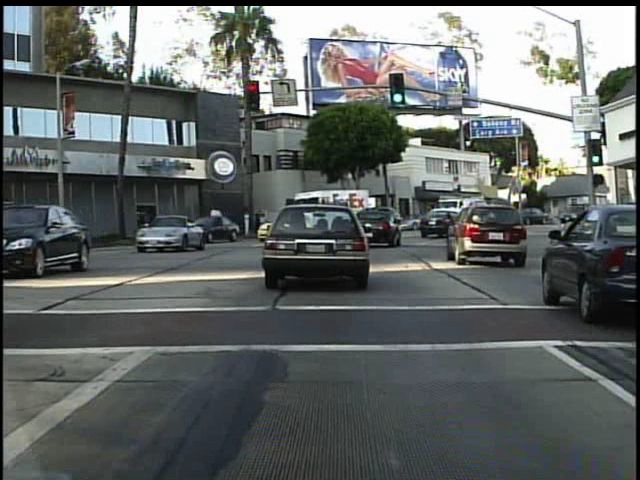person: (253, 206, 264, 232)
